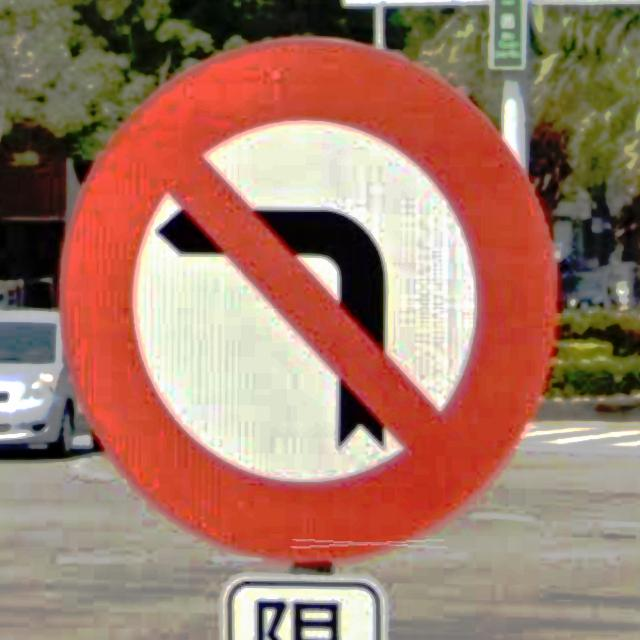noturnleft: (59, 37, 560, 570)
